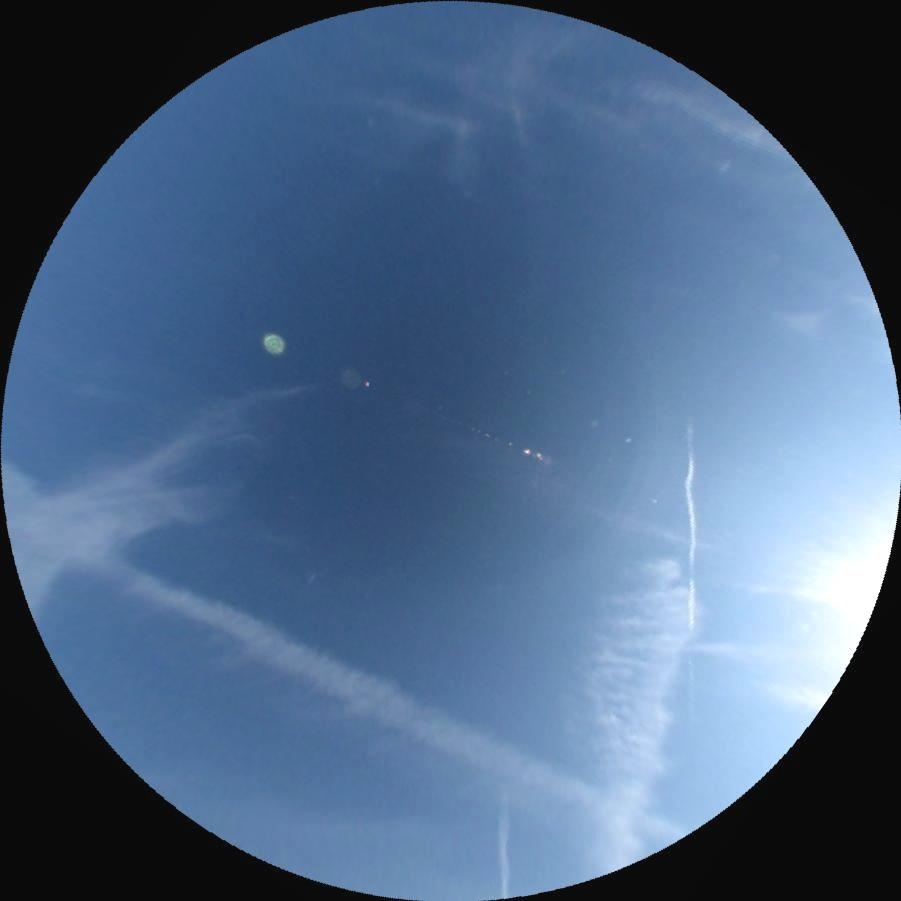contrail old: (680, 414, 700, 719), (493, 785, 514, 897)
contrail veryold: (87, 541, 690, 863), (521, 542, 715, 883)
